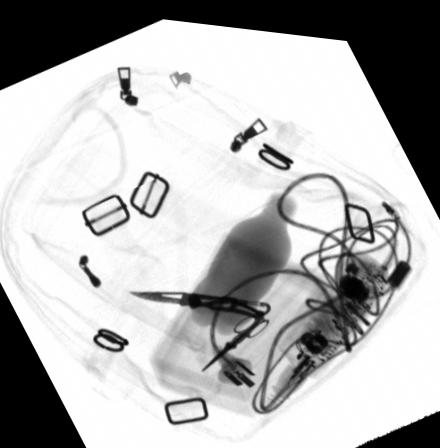Knife: (129, 287, 272, 310)
Scissors: (201, 307, 272, 366)
